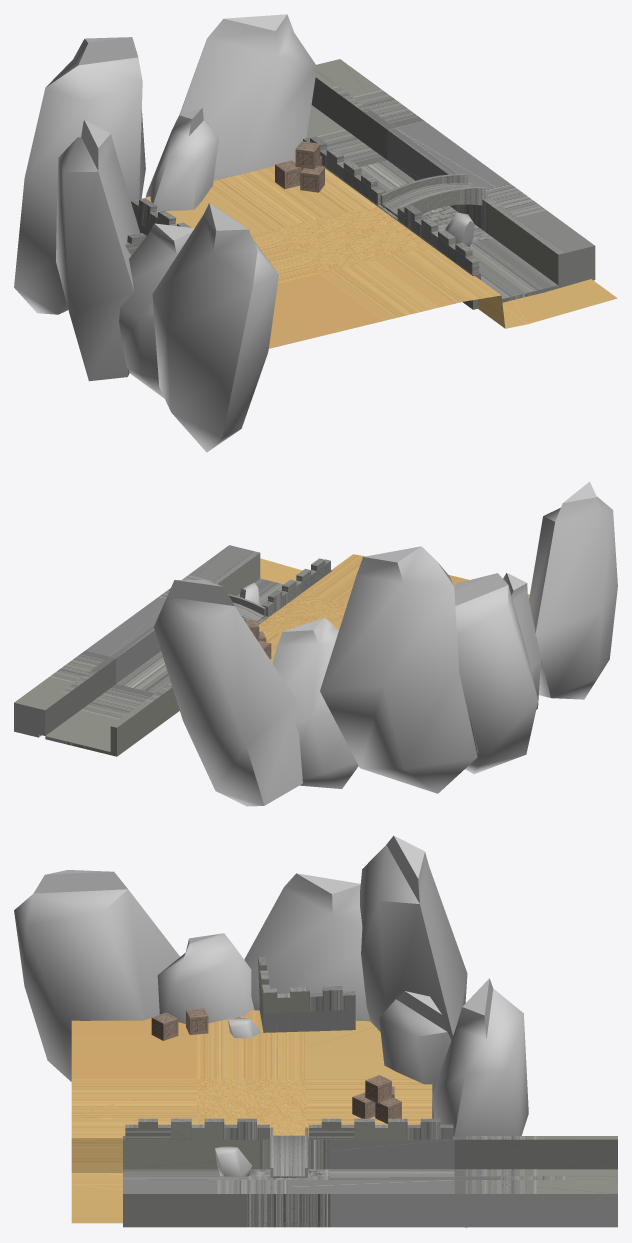
The model's file is TCGStage4.fbx.
The picture shows the model from 3 angles, top to bottom: view 1: azimuth 30°, elevation 25°; view 2: azimuth 150°, elevation 25°; view 3: azimuth 270°, elevation 25°; orthographic projection. The views are drawn at different scales.
Visible parts, largest first — view 1: polymsh, grid, cube4, sphere1, sphere3, sphere2, cube3, polymsh_extracted2, polymsh_extracted3, cube, sphere, cube7 (+1 smaller); view 2: polymsh, cube4, sphere1, sphere3, grid, sphere2, polymsh_extracted2, cube3; view 3: cube4, grid, polymsh, sphere1, sphere3, sphere2, cube, polymsh_extracted3, polymsh_extracted2, cube3, sphere, cube2 (+4 smaller).
Part boxes in pixels (x1,y1,x2,y2): polymsh: (14,14,316,314); grid: (141,166,617,348); cube4: (306,59,595,309); sphere1: (152,203,278,452); sphere3: (56,120,140,381); sphere2: (119,223,194,398); cube3: (380,174,485,216); polymsh_extracted2: (397,205,479,274); polymsh_extracted3: (303,136,384,205); cube: (125,198,191,255); sphere: (445,212,474,246); cube7: (295,141,320,169); polymsh: (153,546,478,806); cube4: (14,545,332,756); sphere1: (529,481,617,699); sphere3: (454,573,538,774); grid: (258,554,529,662); sphere2: (503,573,540,709); polymsh_extracted2: (262,558,330,616); cube3: (228,594,265,622); cube4: (123,1136,617,1227); grid: (71,1010,432,1223); polymsh: (360,835,528,1228); sphere1: (14,870,179,1081); sphere3: (244,873,369,1021); sphere2: (157,933,254,1023); cube: (258,956,355,1032); polymsh_extracted3: (308,1118,453,1139); polymsh_extracted2: (125,1118,269,1139); cube3: (270,1127,307,1177); sphere: (215,1146,251,1176); cube2: (151,1012,178,1040).
Size of the model in its own units: 76.29 by 52.71 by 92.26.
